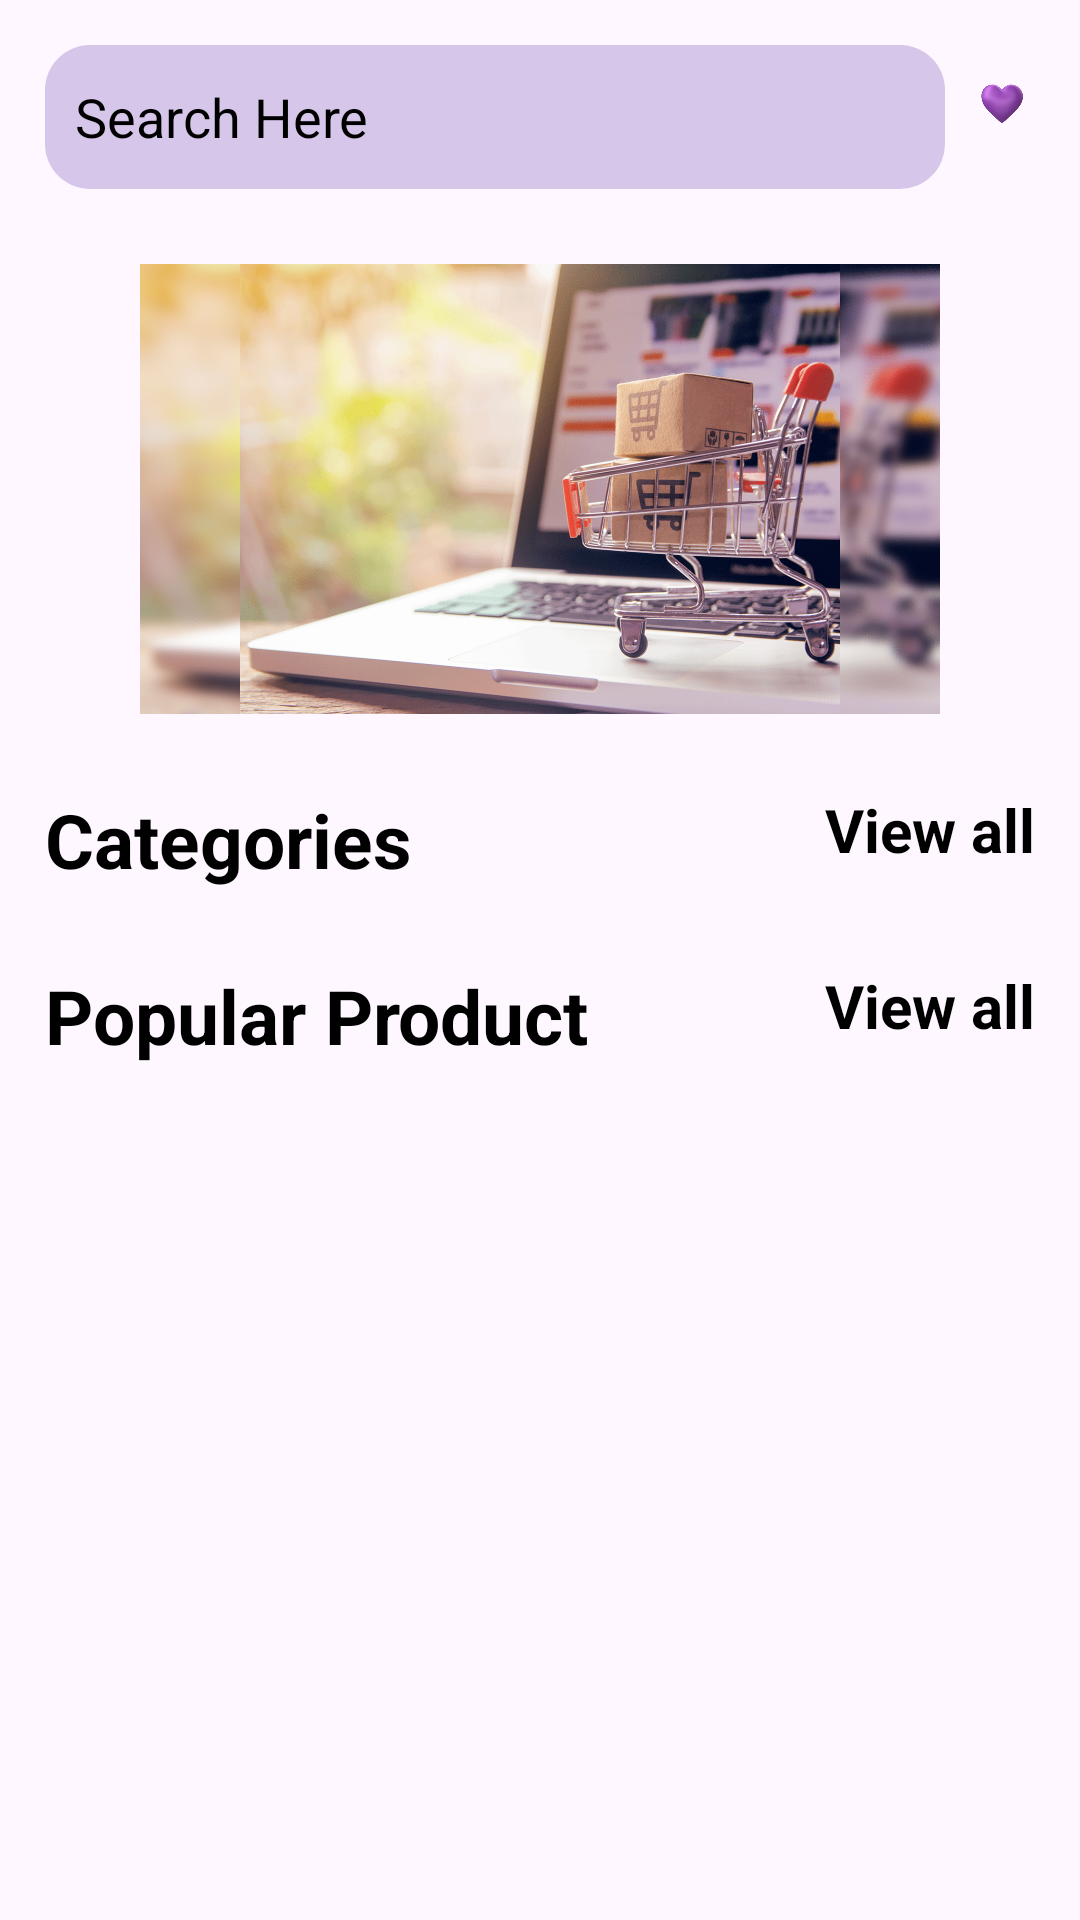

Where to tap for icons on this 1080 x 1920 app screen, as [x,y]:
like: [1002,103]
